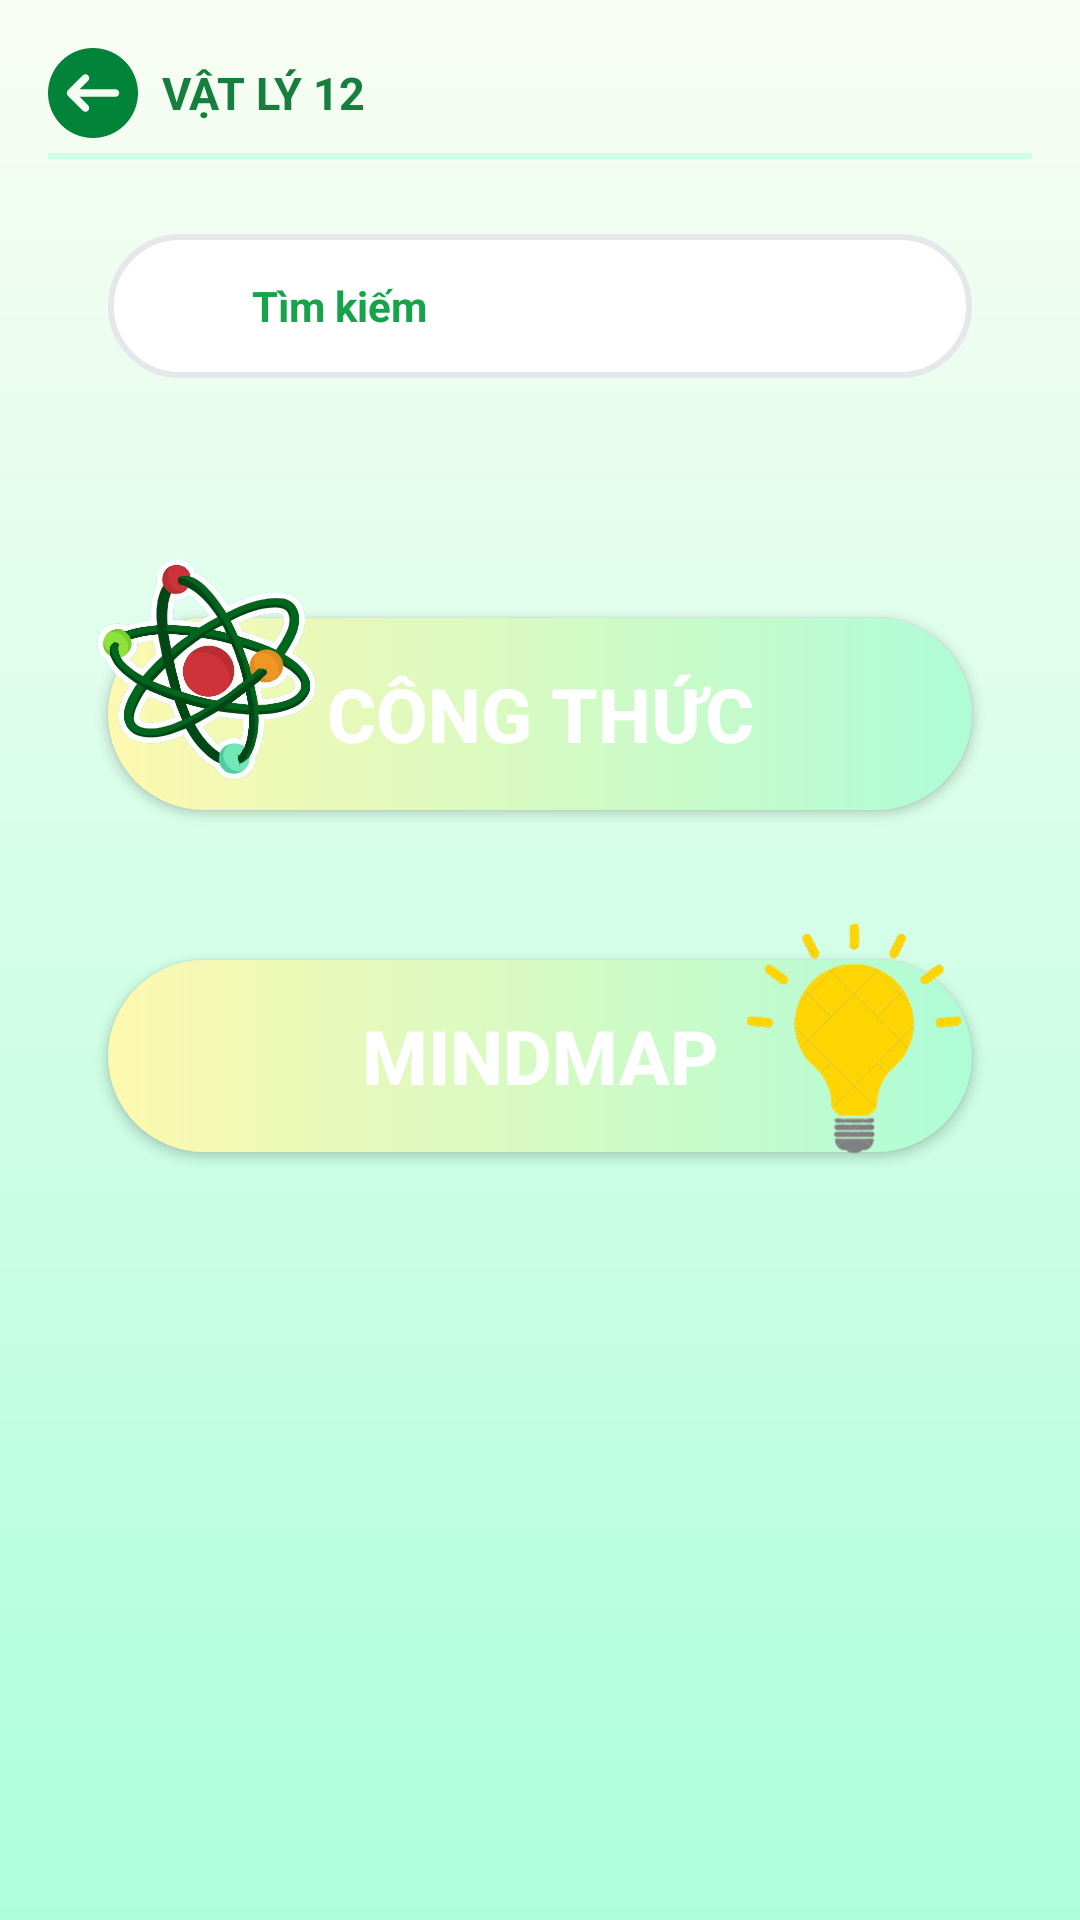

Icon bounding boxes for this 1080*1920 phone screenshot, format detection(x1, y1, x2, y2):
back: detection(48, 48, 138, 138)
